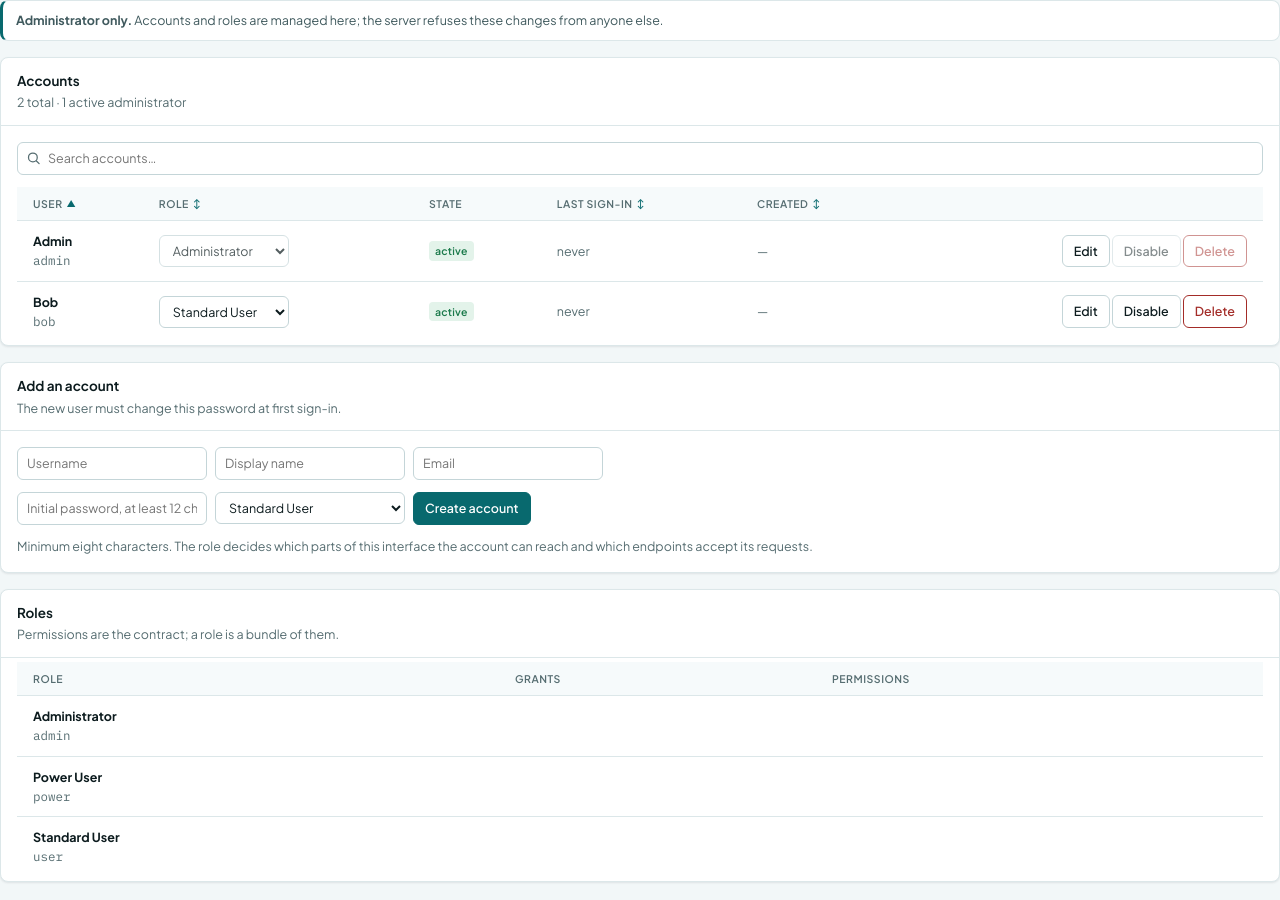
it: changing a role › names the role, not its id
Select "Power User" in the 2nd dropdown at (224, 312), box [159,296,289,328]
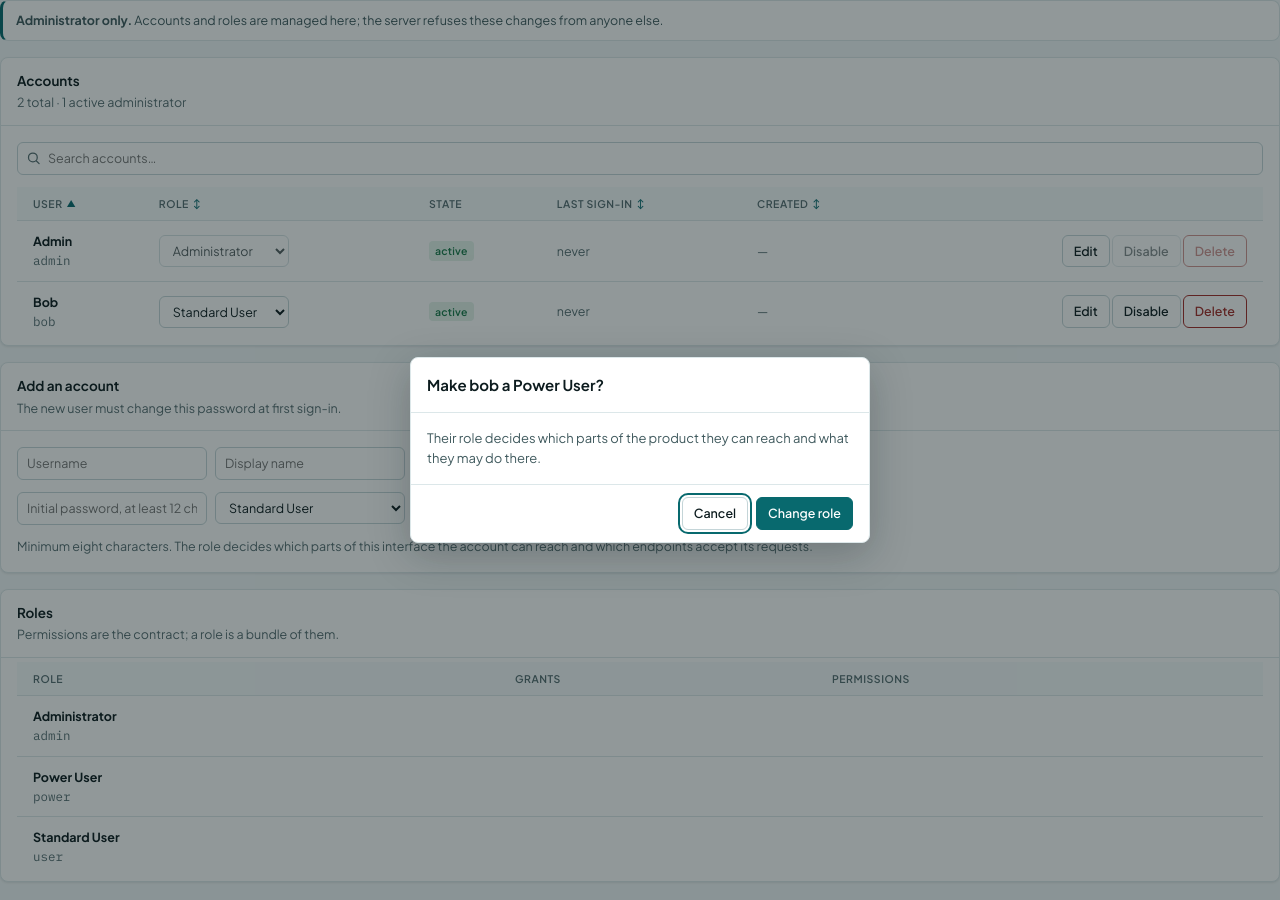
Expected: the dialog shows "Make bob a Power User?", [427,375,604,394]
